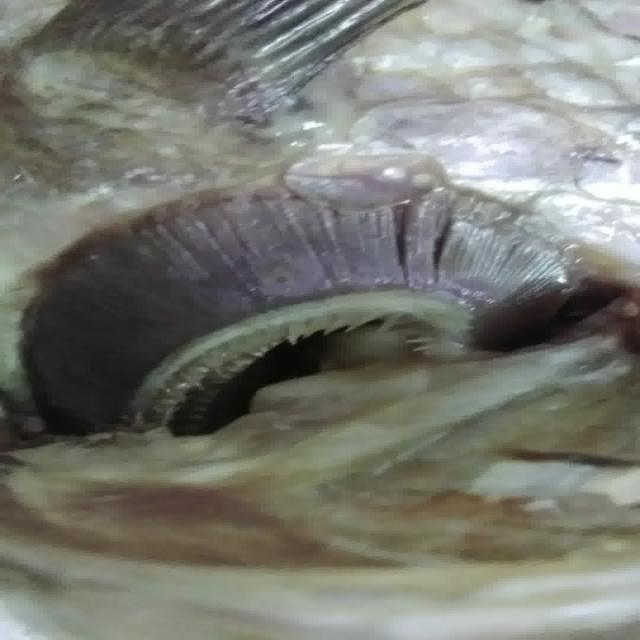Non-Fresh: (16, 184, 596, 418)
